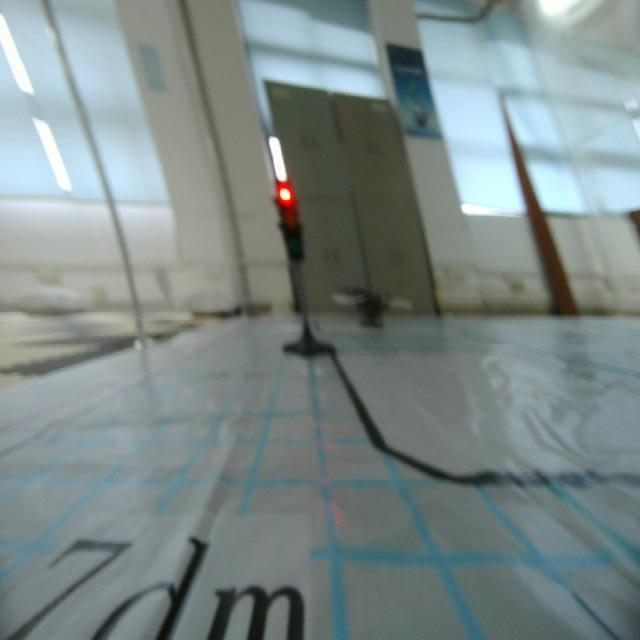red: (271, 182, 309, 266)
